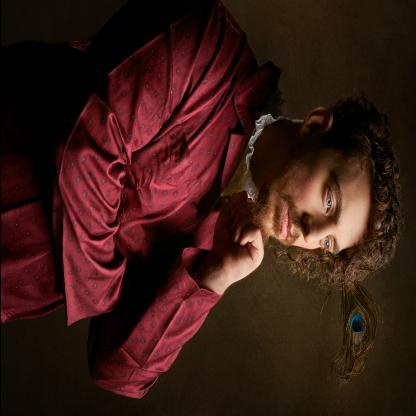Eye: (320, 184, 333, 216), (319, 235, 330, 250)
Mouth: (279, 204, 292, 239)
Nose: (301, 215, 327, 244)
